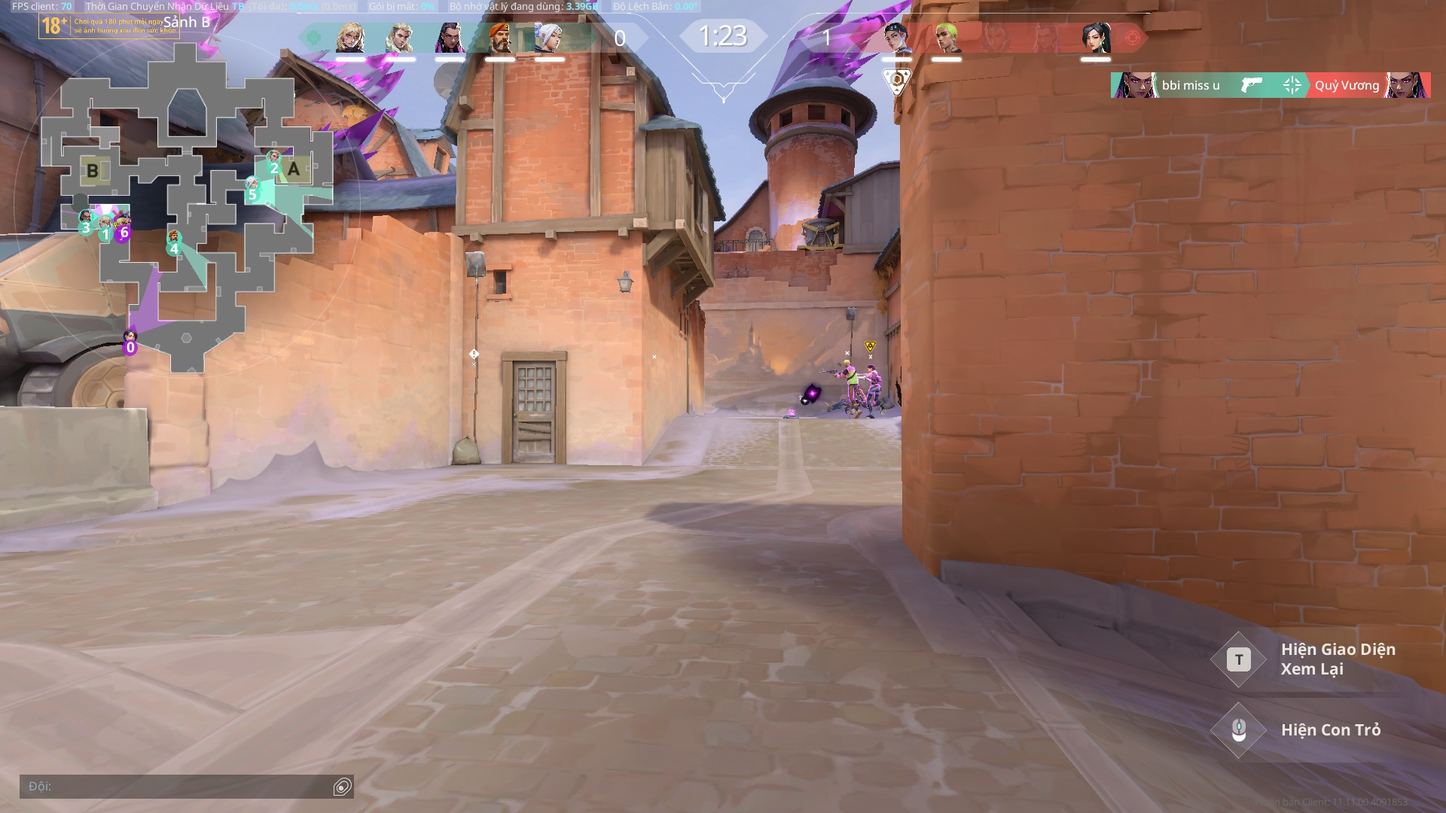body: (841, 367, 859, 385), (867, 372, 883, 386)
head: (865, 363, 876, 373), (843, 358, 853, 368)
